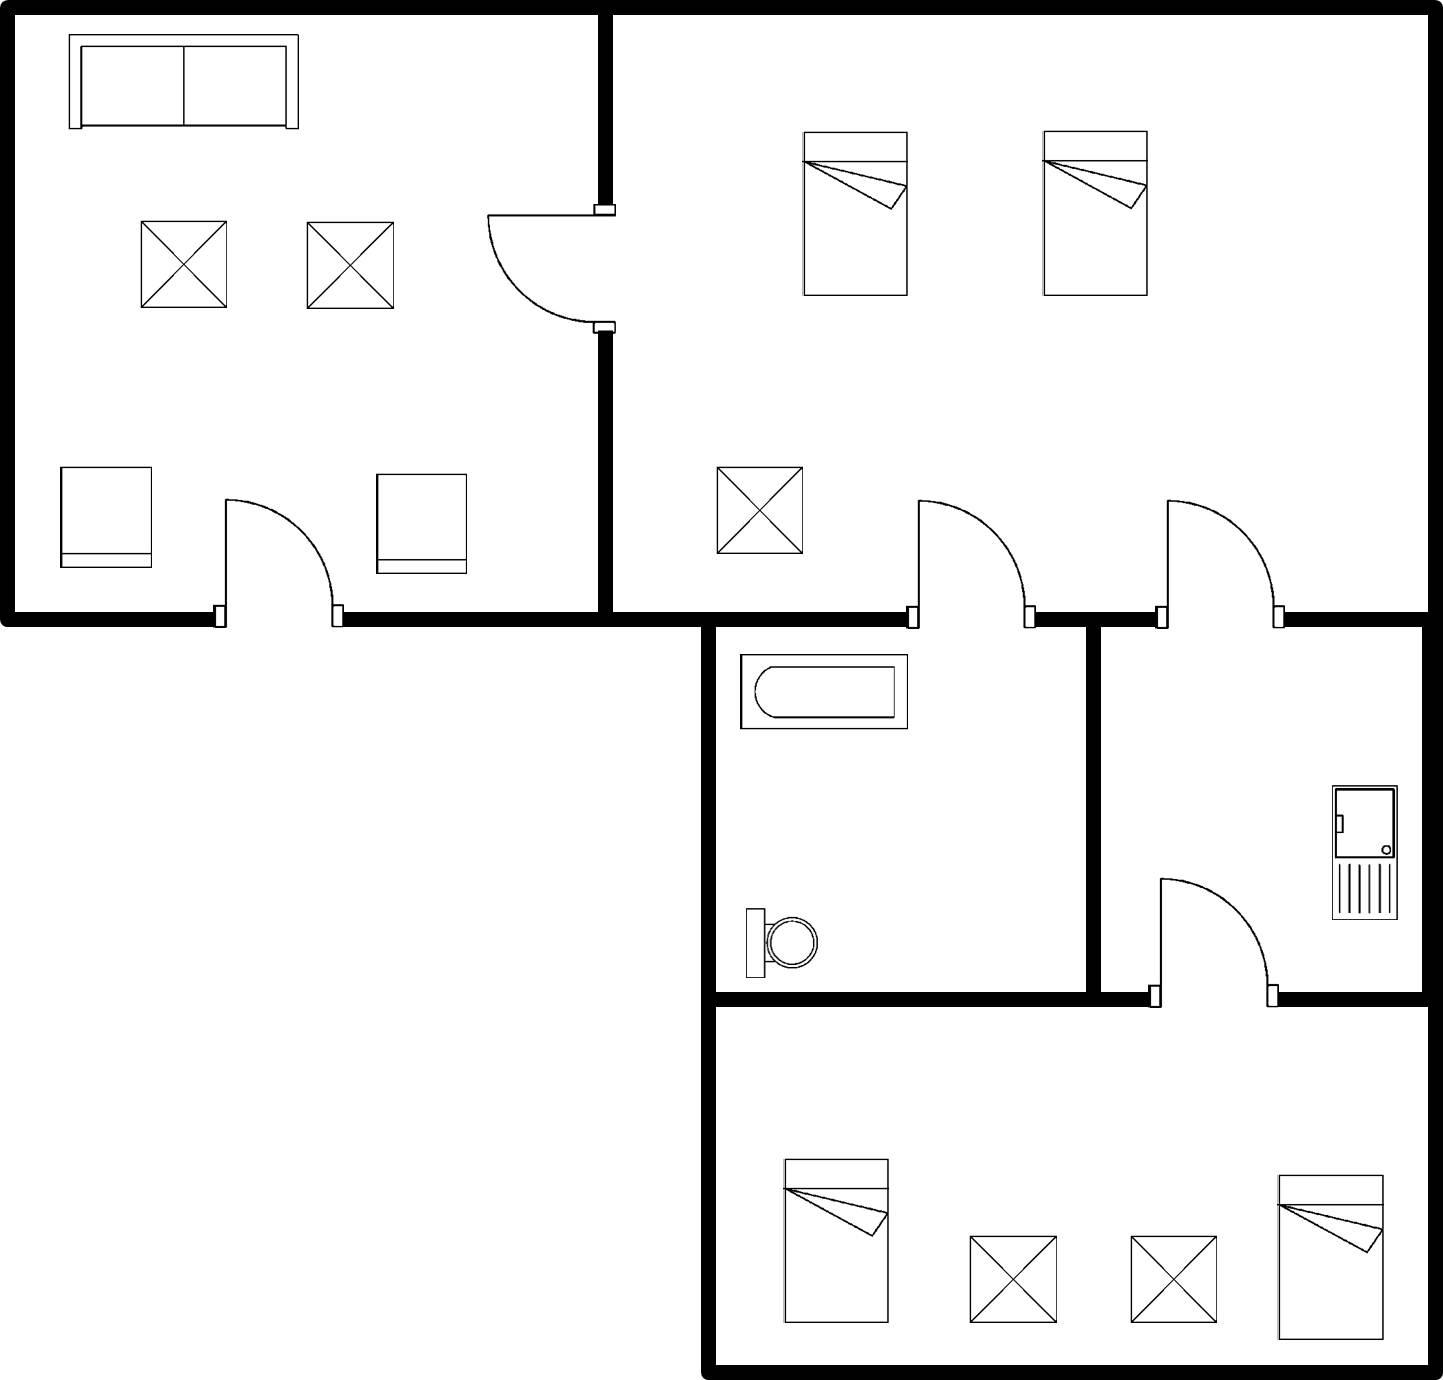bed: (1031, 119, 1161, 307), (770, 1149, 901, 1336), (792, 121, 919, 305), (1266, 1165, 1391, 1349)
sink: (1323, 776, 1406, 926)
sofa: (57, 24, 311, 142)
toilet: (734, 898, 825, 987)
tub: (727, 642, 919, 740)
